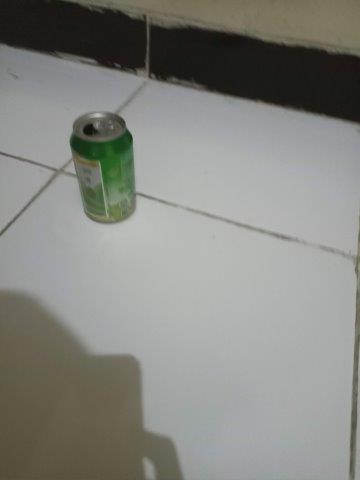kaleng: (70, 111, 137, 226)
